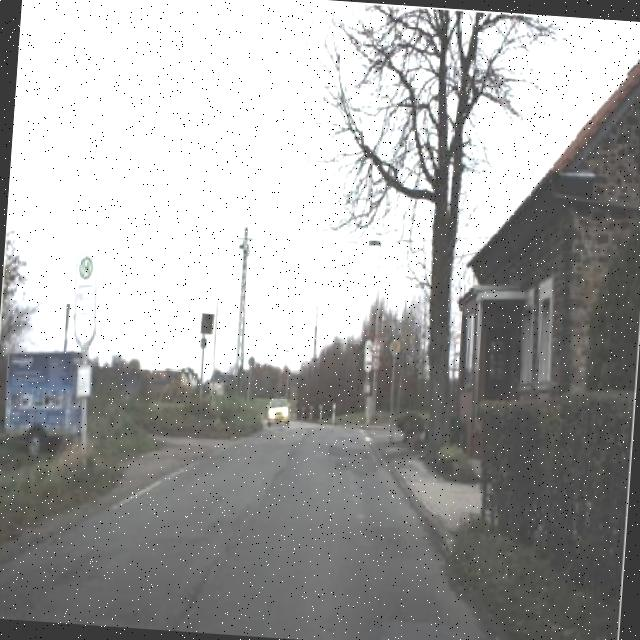Ograniczenie predkosci do 30: (368, 354, 381, 372)
